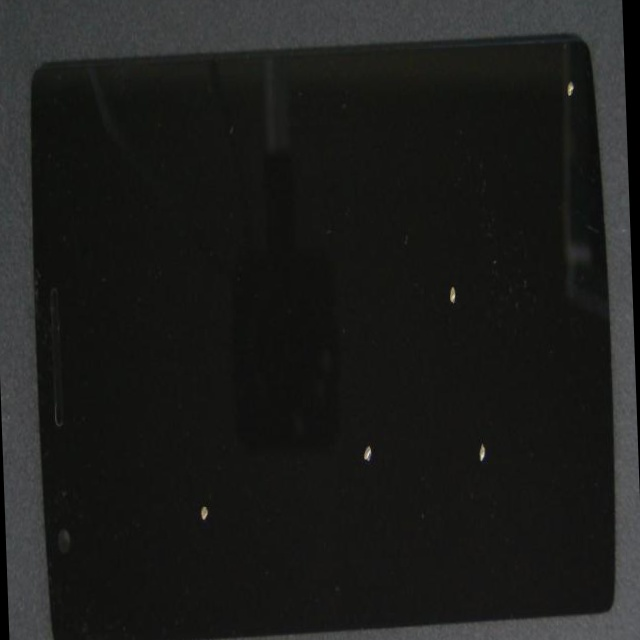stain: (250, 230, 640, 640), (206, 220, 585, 640), (247, 97, 638, 446), (130, 255, 334, 640), (294, 27, 627, 151)
